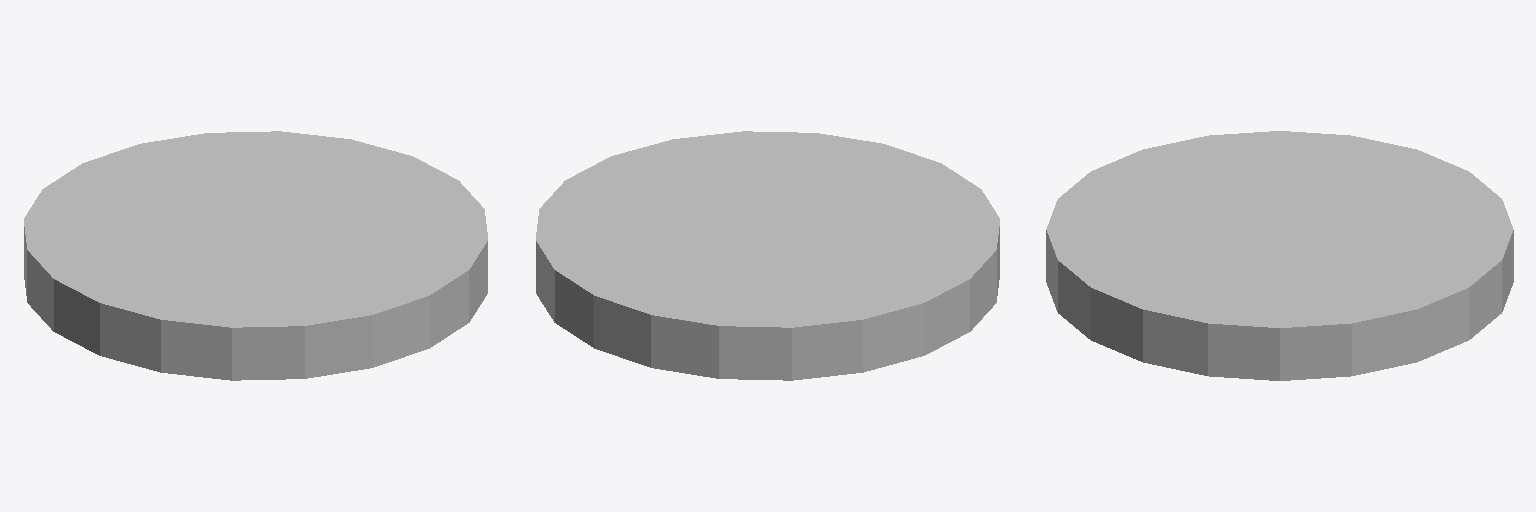
File: target2.obj
3 views of the same model, side by side, from view 1: azimuth 30°, elevation 25°; view 2: azimuth 150°, elevation 25°; view 3: azimuth 270°, elevation 25° (orthographic).
Parts seen in each view (by area): view 1: Cylinder_Cylinder.001; view 2: Cylinder_Cylinder.001; view 3: Cylinder_Cylinder.001.
Part boxes in pixels (bbox=[...]): Cylinder_Cylinder.001: bbox=[24, 131, 487, 380]; Cylinder_Cylinder.001: bbox=[536, 131, 999, 380]; Cylinder_Cylinder.001: bbox=[1046, 131, 1513, 380].
Size of the model in its own units: 2 by 0.25 by 2.